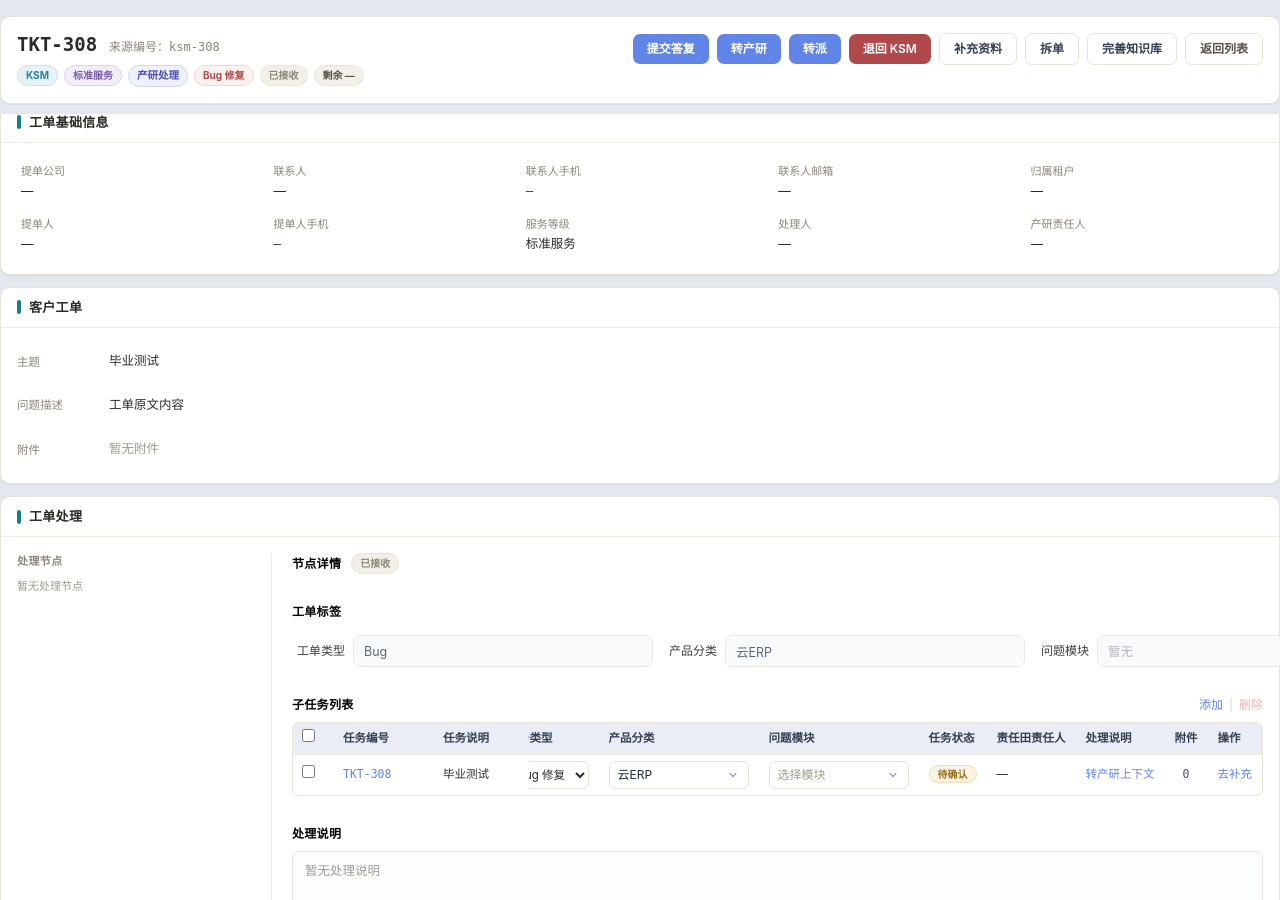
TicketDetailPage › 添加子任务 → 弹窗录入 → 子任务列表出现新任务行
Expected: the heading "TKT-308" is shown, [17,33,97,57]
Step 1. Click the button "添加" → (1211, 705), box [1199,696,1223,714]
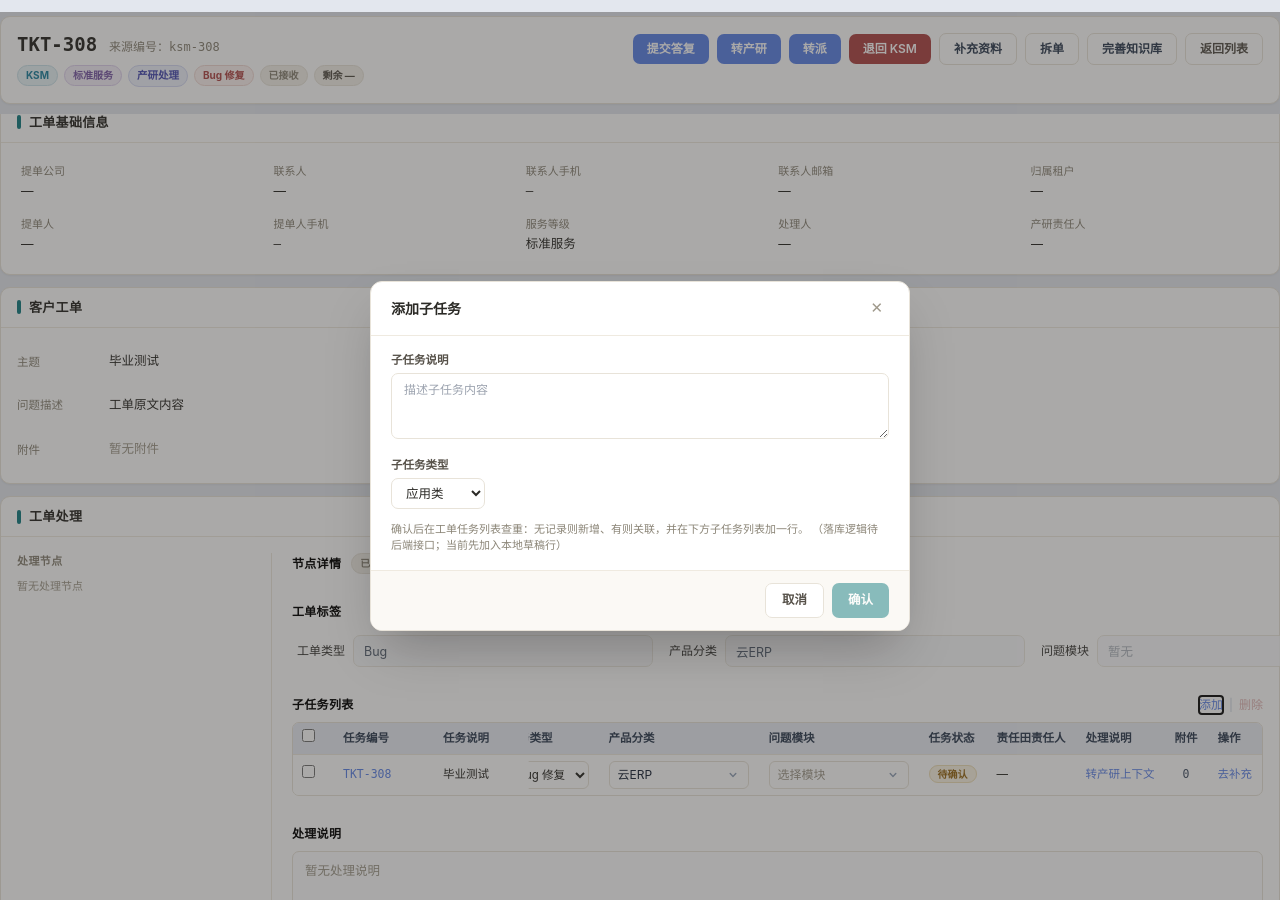
Step 2. Type "导出接口报错" into the text box with placeholder "描述子任务内容" → (640, 406), box [391,373,889,439]
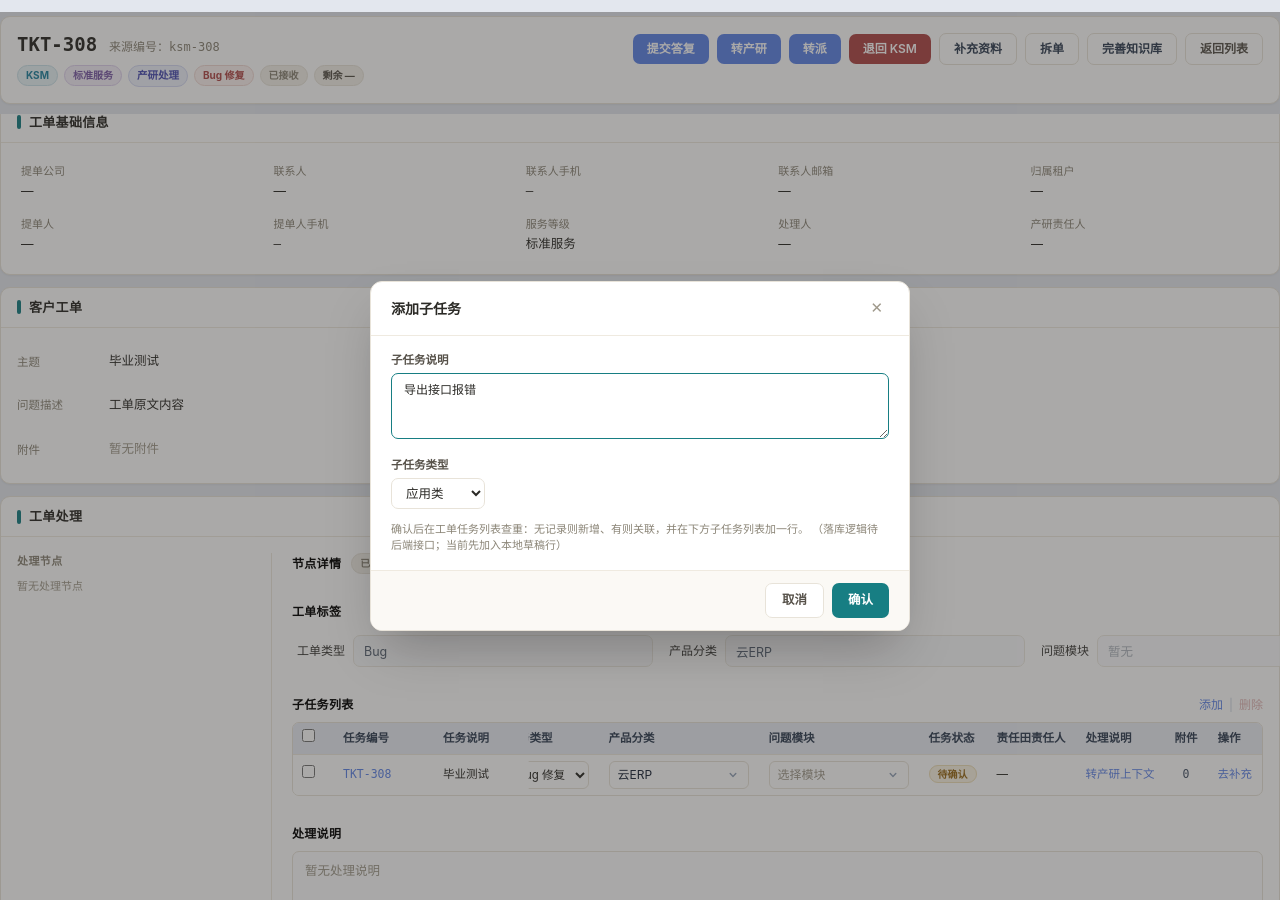
Step 3. Click the button "确认" → (860, 600), box [832,583,889,618]
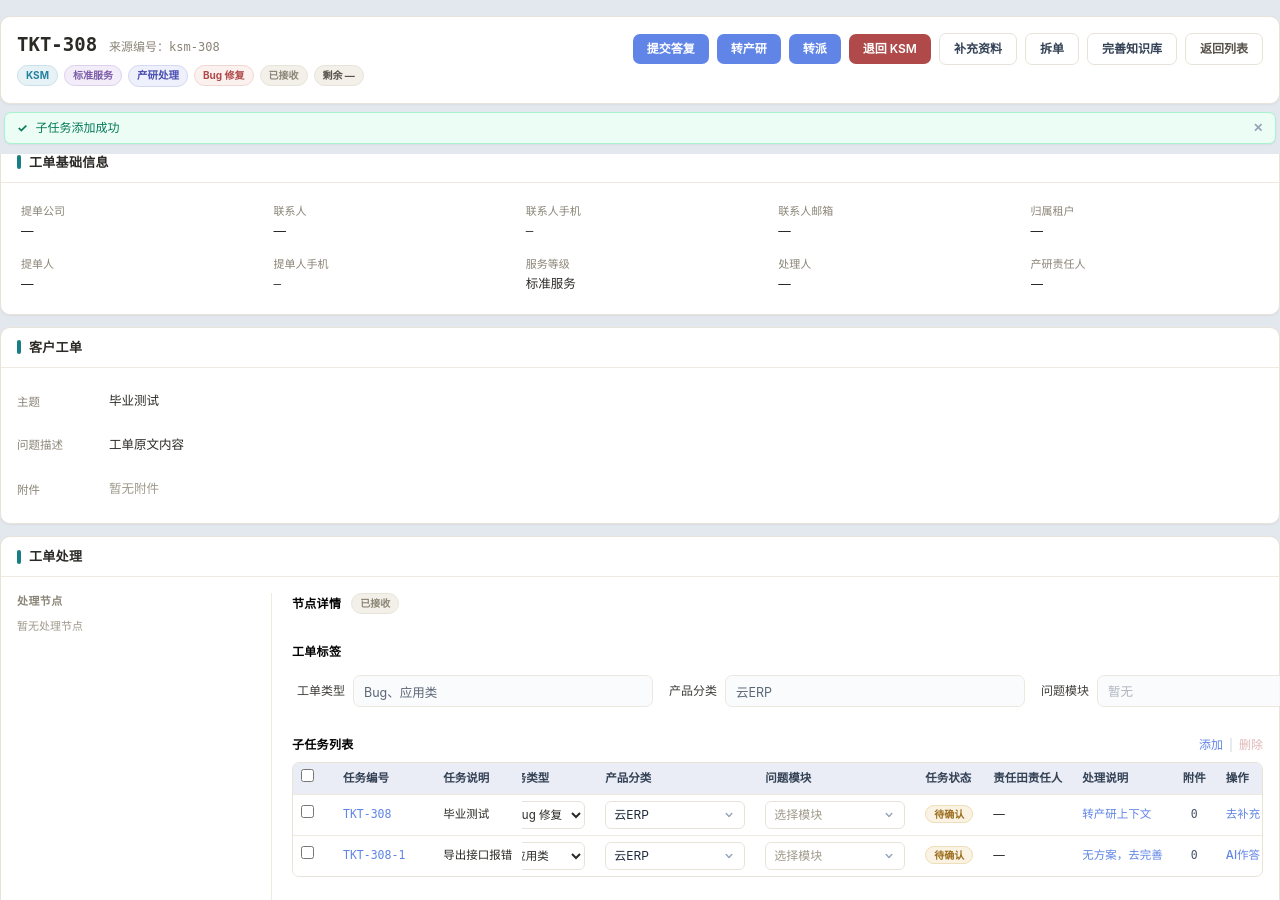
Now the text "导出接口报错" is shown, box [433,835,522,876]
Now the text "TKT-308-1" is shown, box [343,848,405,862]
